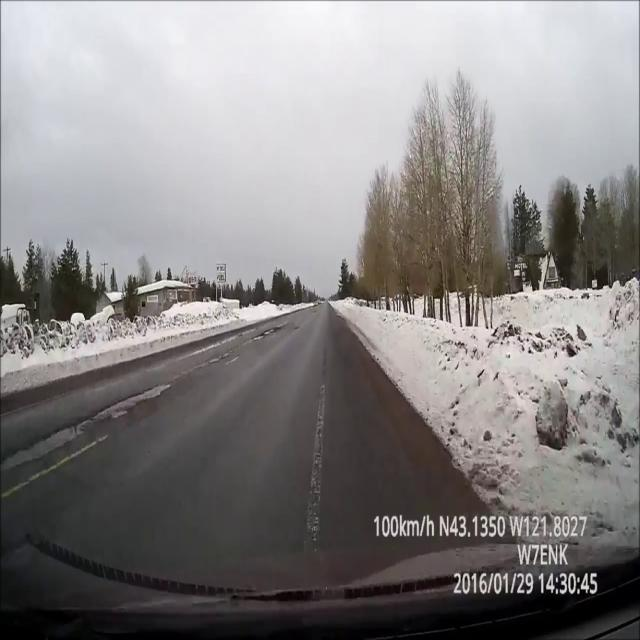Pothole: (0, 424, 84, 476), (91, 380, 174, 430), (206, 353, 230, 363), (264, 327, 280, 335), (252, 334, 264, 341), (294, 326, 299, 331), (313, 310, 318, 314)
